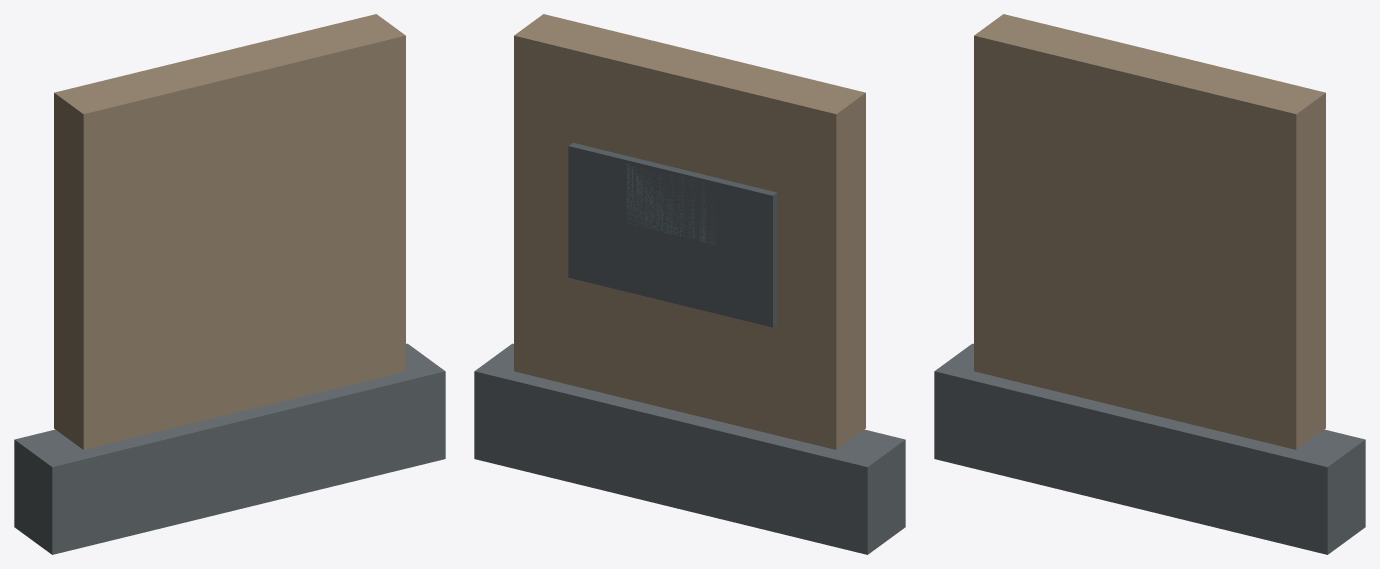
File: iz3_production_toolrack_02.glb
3 views of the same model, side by side, from view 1: azimuth 30°, elevation 25°; view 2: azimuth 150°, elevation 25°; view 3: azimuth 330°, elevation 25° (orthographic).
Parts seen in each view (by area): view 1: cabinet, base; view 2: cabinet, base, panel, display; view 3: cabinet, base.
Part boxes in pixels (left/top/right/bottom): cabinet: left=54, top=14, right=405, bottom=449; base: left=14, top=343, right=445, bottom=554; cabinet: left=514, top=14, right=865, bottom=449; base: left=474, top=343, right=905, bottom=554; panel: left=568, top=143, right=777, bottom=327; display: left=626, top=163, right=715, bottom=244; cabinet: left=974, top=14, right=1325, bottom=449; base: left=934, top=343, right=1365, bottom=554.
Bounding box in the file's own units: 1.5 × 1.56 × 0.2525.
